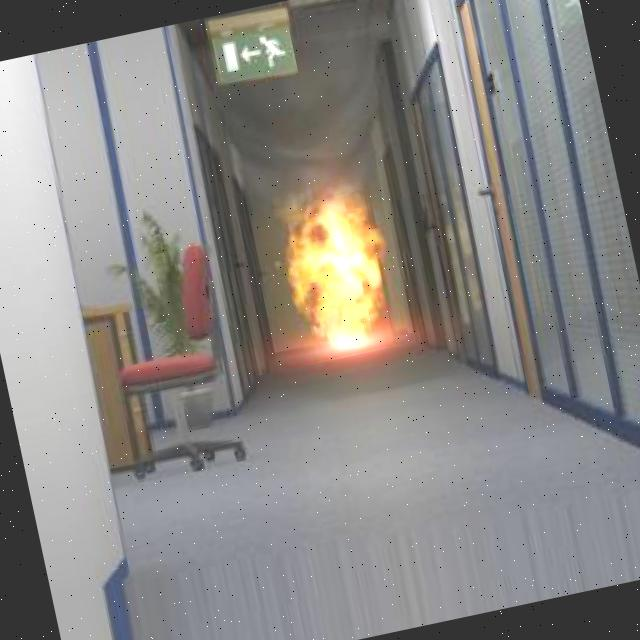fire: (252, 164, 405, 365)
